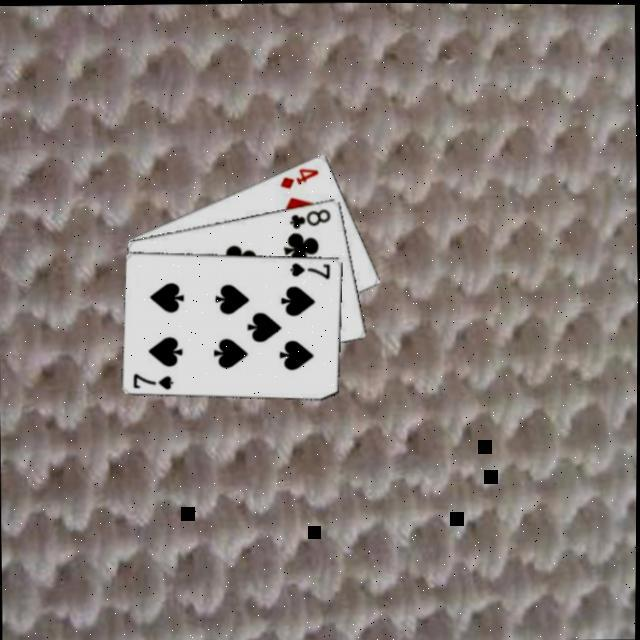4D: (278, 163, 322, 190)
7S: (288, 256, 334, 280), (132, 368, 178, 390)
8C: (288, 203, 334, 230)
